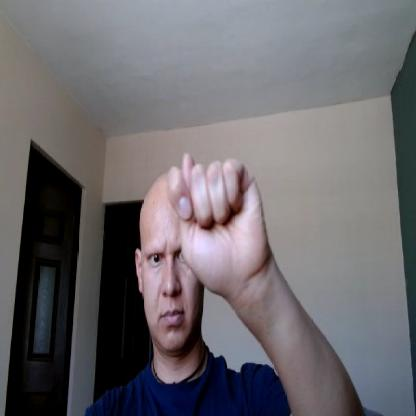T: (165, 150, 274, 296)
